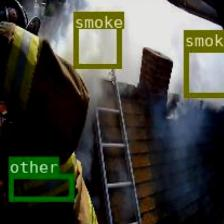smoke: (73, 11, 121, 67), (182, 47, 224, 97)
